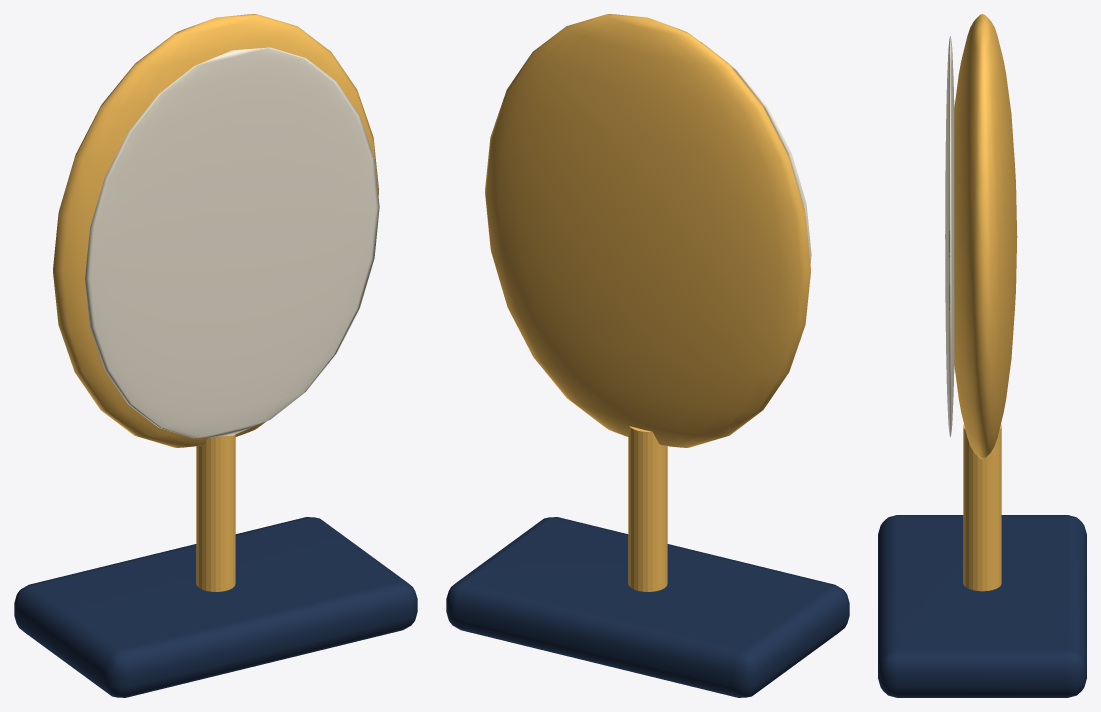
Rendered from EDU005.glb.
3 views of the same model, side by side, from view 1: azimuth 30°, elevation 25°; view 2: azimuth 150°, elevation 25°; view 3: azimuth 270°, elevation 25° (orthographic).
Parts seen in each view (by area): view 1: Mirror_surface, Foot, Oval_frame, Stand; view 2: Oval_frame, Foot, Stand, Mirror_surface; view 3: Foot, Oval_frame, Stand, Mirror_surface.
Boxes of the visible parts, x1,y1,x2,y2 form: Mirror_surface: [85, 47, 379, 438]; Foot: [14, 517, 417, 697]; Oval_frame: [53, 14, 378, 447]; Stand: [196, 434, 235, 591]; Oval_frame: [485, 14, 810, 447]; Foot: [446, 517, 849, 697]; Stand: [628, 426, 667, 591]; Mirror_surface: [700, 41, 811, 263]; Foot: [878, 515, 1086, 697]; Oval_frame: [954, 14, 1017, 459]; Stand: [963, 424, 1001, 591]; Mirror_surface: [945, 36, 954, 437].
Bounding box in the file's own units: 1.15 × 2.07 × 0.65.
